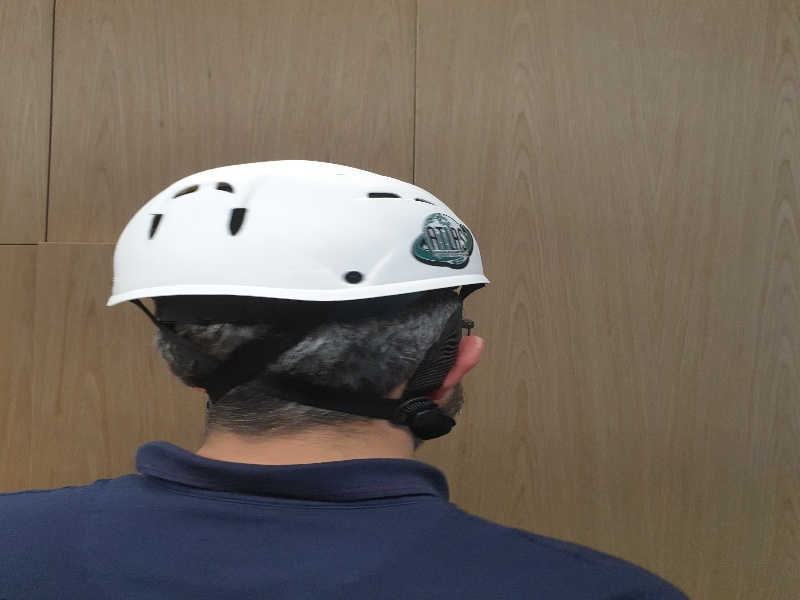Baret: (108, 159, 487, 303)
